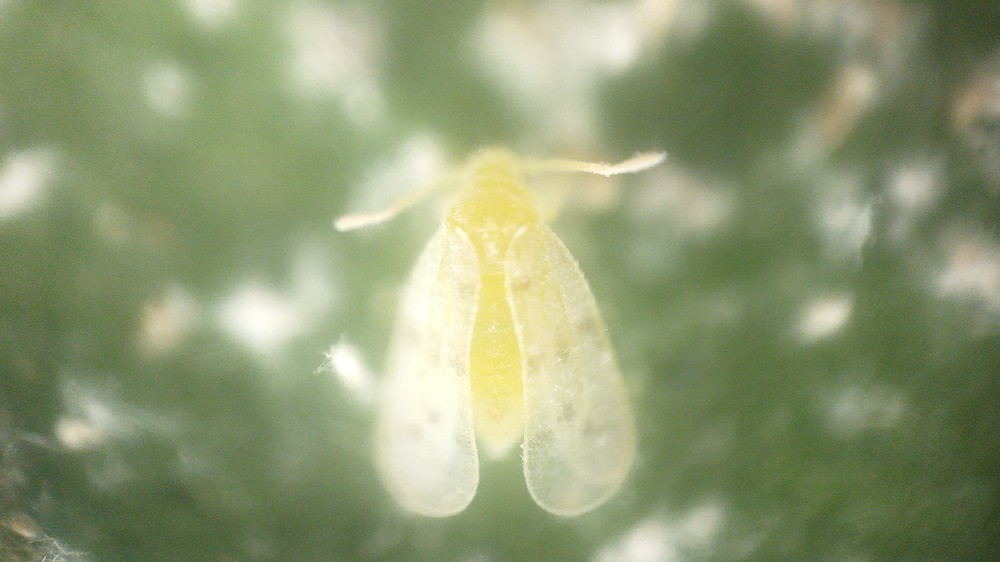Mosca Blanca: (319, 129, 680, 530)
